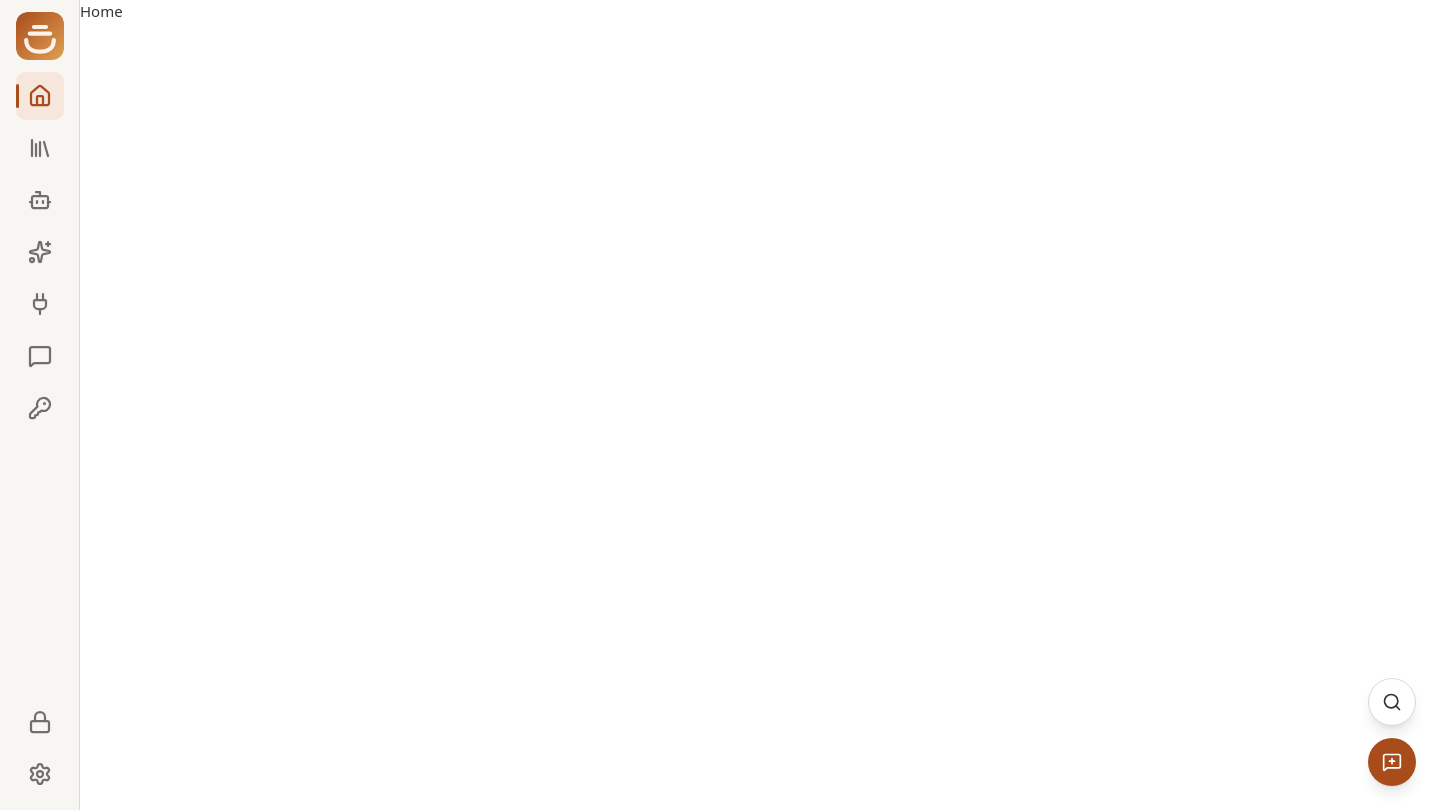
no active chat: creates one on first open and renders it
Click the button named "open chat" at (1392, 762), box 1368,738 -> 1416,786
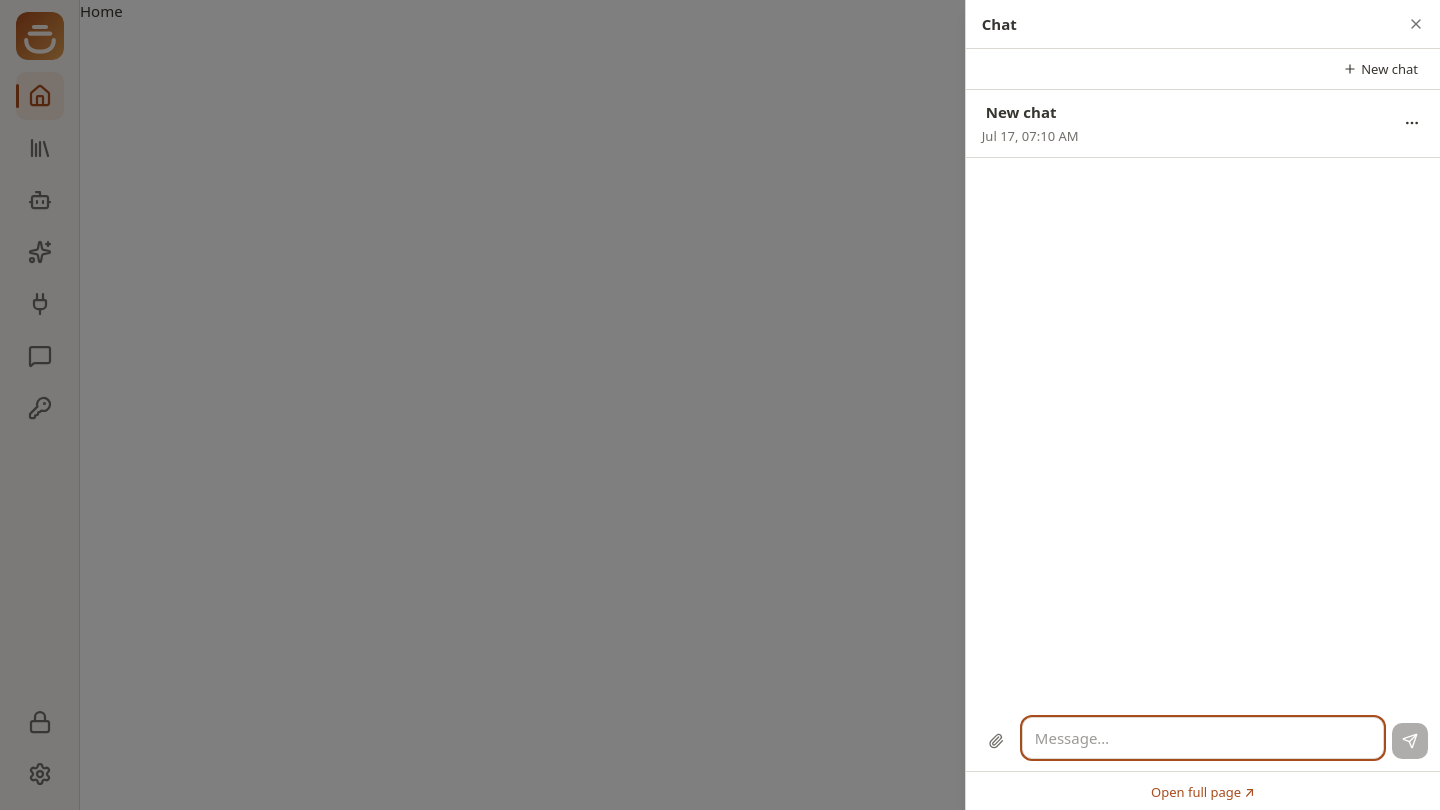
Expected: the heading "New chat" is shown, 986,102 -> 1056,122
